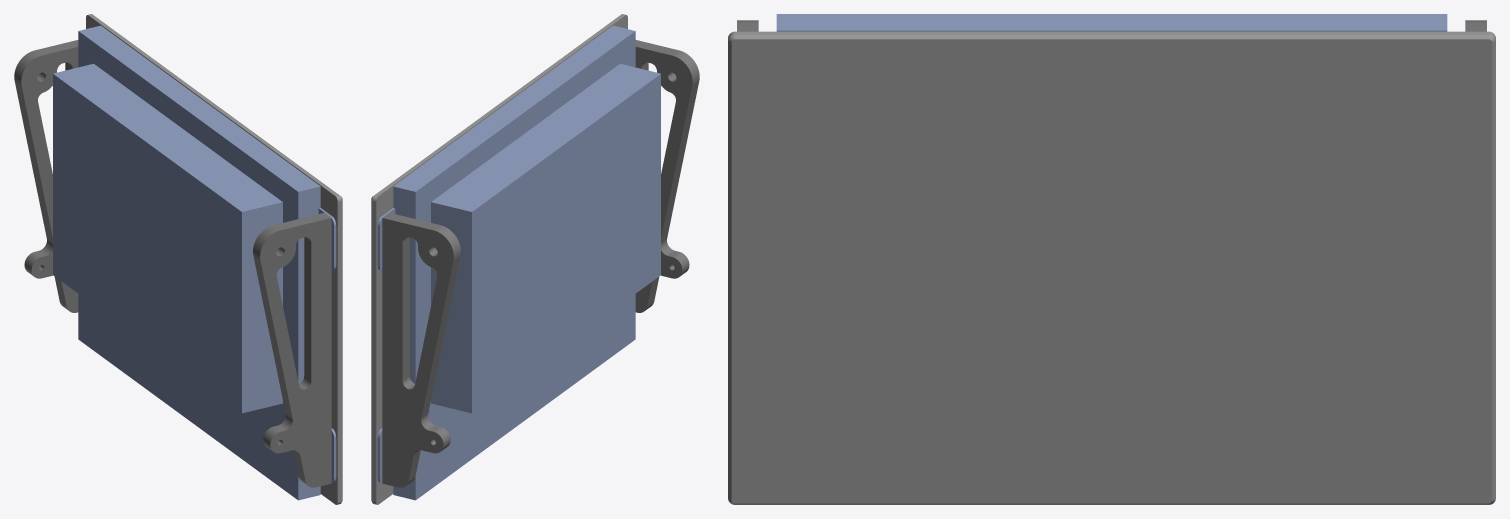
The model's file is head_screen.dae.
3 renders of one model, left to right at view 1: azimuth 30°, elevation 25°; view 2: azimuth 150°, elevation 25°; view 3: azimuth 270°, elevation 25°, orthographic. The views are drawn at different scales.
Parts seen in each view (by area): view 1: Untitled_001, Untitled, Untitled_003, Untitled_002; view 2: Untitled_001, Untitled_003, Untitled, Untitled_002; view 3: Untitled_002, Untitled_001.
Boxes of the visible parts, bbox=[...] form: Untitled_001: bbox=[53, 25, 336, 500]; Untitled: bbox=[253, 212, 331, 487]; Untitled_003: bbox=[14, 40, 78, 312]; Untitled_002: bbox=[86, 14, 342, 504]; Untitled_001: bbox=[377, 25, 660, 500]; Untitled_003: bbox=[382, 212, 460, 487]; Untitled: bbox=[635, 40, 699, 312]; Untitled_002: bbox=[371, 14, 627, 504]; Untitled_002: bbox=[728, 31, 1495, 504]; Untitled_001: bbox=[776, 14, 1447, 31].
Bounding box in the file's own units: 0.0395 × 0.213 × 0.144.
